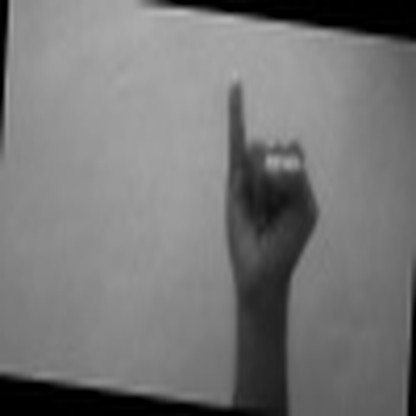i: (207, 66, 327, 321)
